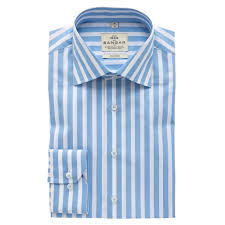striped: (49, 7, 175, 218)
